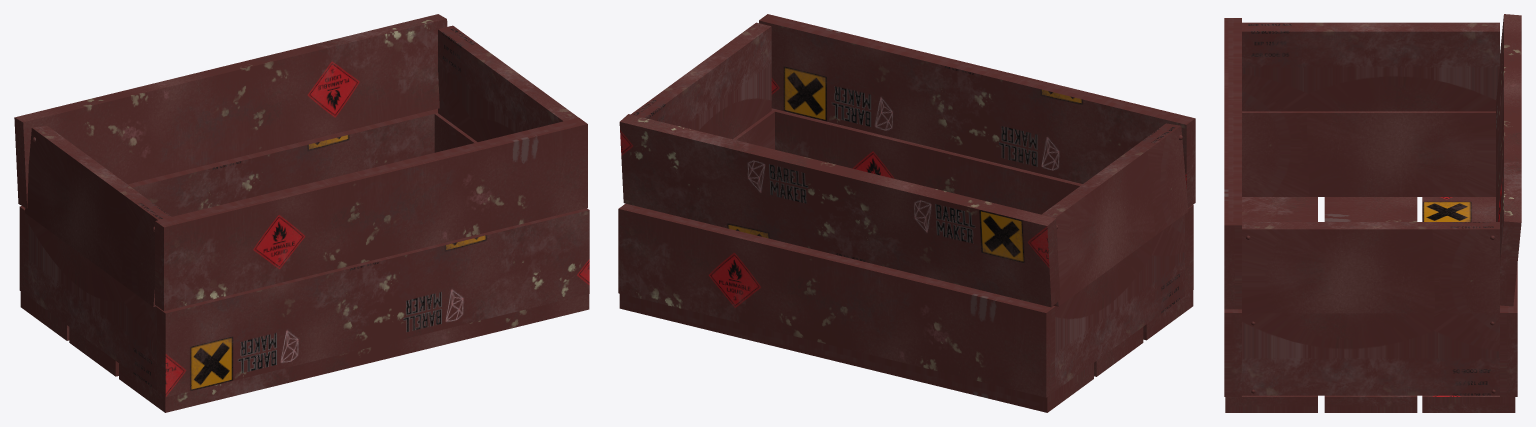
3 renders of one model, left to right at view 1: azimuth 30°, elevation 25°; view 2: azimuth 150°, elevation 25°; view 3: azimuth 270°, elevation 25°, orthographic.
Visible parts, largest first — view 1: SM_box_01; view 2: SM_box_01; view 3: SM_box_01.
Part boxes in pixels (x1,y1,x2,y2): SM_box_01: (14, 14, 589, 412); SM_box_01: (618, 14, 1195, 412); SM_box_01: (1224, 14, 1521, 412).
Size of the model in its own units: 92.3 by 55.15 by 38.93.
